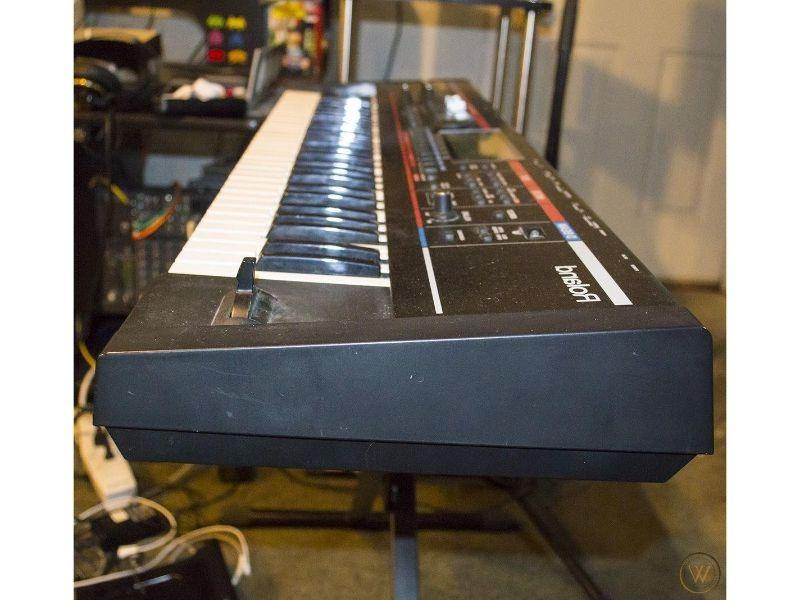synthesizer: (107, 67, 717, 487)
